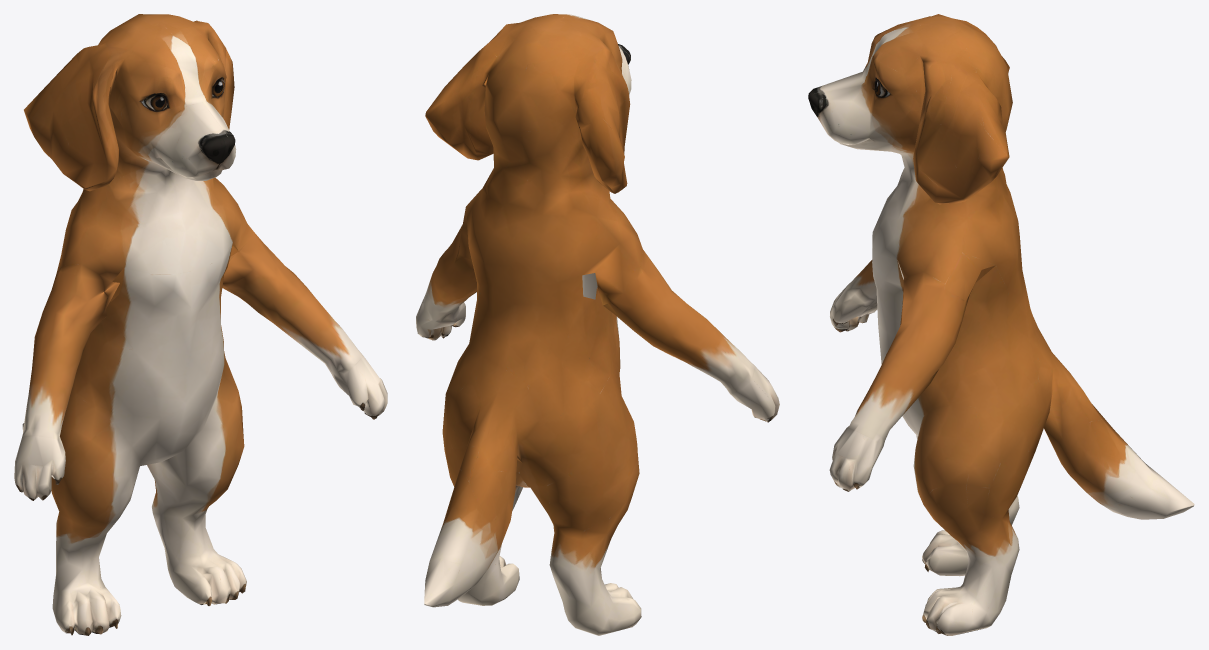
The model's file is dog-arms-clip.glb.
3 renders of one model, left to right at view 1: azimuth 30°, elevation 25°; view 2: azimuth 150°, elevation 25°; view 3: azimuth 270°, elevation 25°, orthographic. The views are drawn at different scales.
Parts seen in each view (by area): view 1: dgsrc_mesh0; view 2: dgsrc_mesh0; view 3: dgsrc_mesh0.
Boxes of the visible parts, x1=… form: dgsrc_mesh0: x1=14, y1=14, x2=387, y2=635; dgsrc_mesh0: x1=416, y1=14, x2=779, y2=635; dgsrc_mesh0: x1=808, y1=14, x2=1194, y2=635.
Bounding box in the file's own units: 1.23 × 1.9 × 1.17.
Materials: 1 (1 with a texture image).
